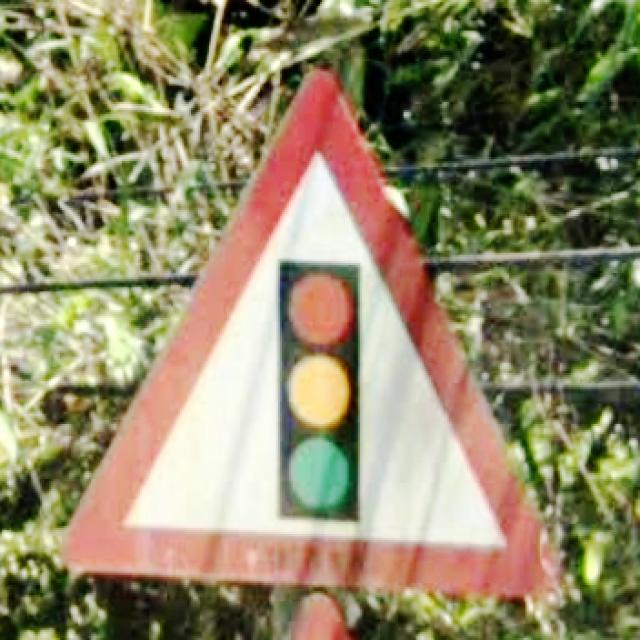signalahead: (60, 73, 558, 598)
